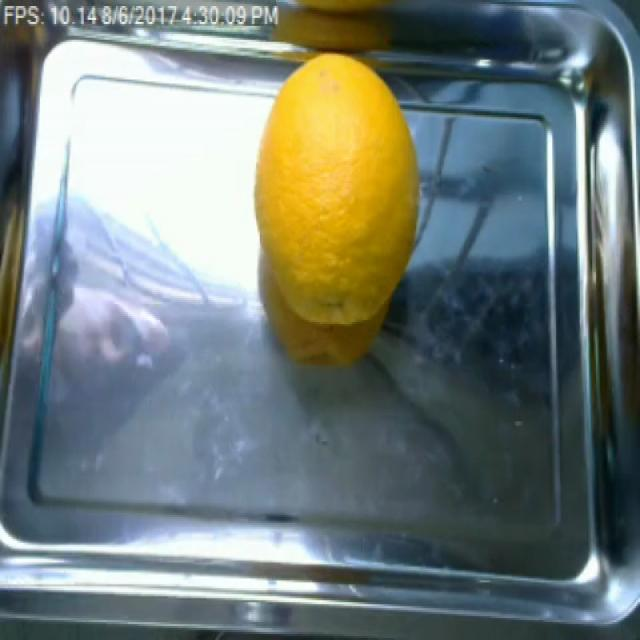Fruit: (248, 48, 428, 370)
